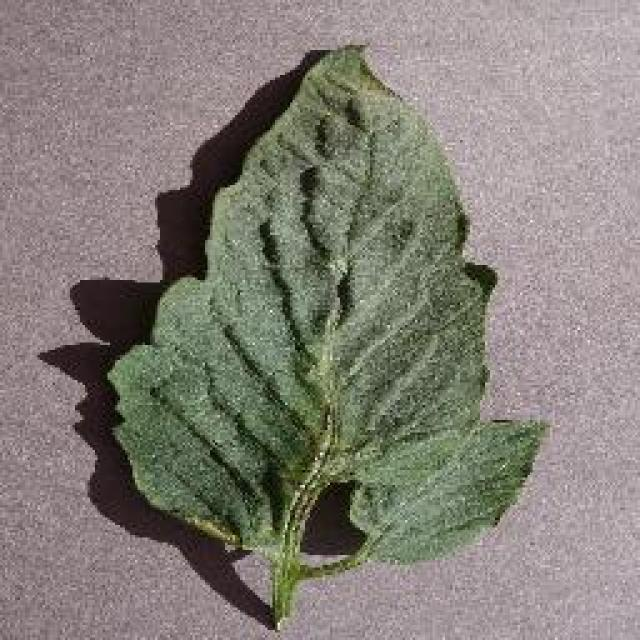Tom_Target_Spot: (266, 392, 402, 574)
